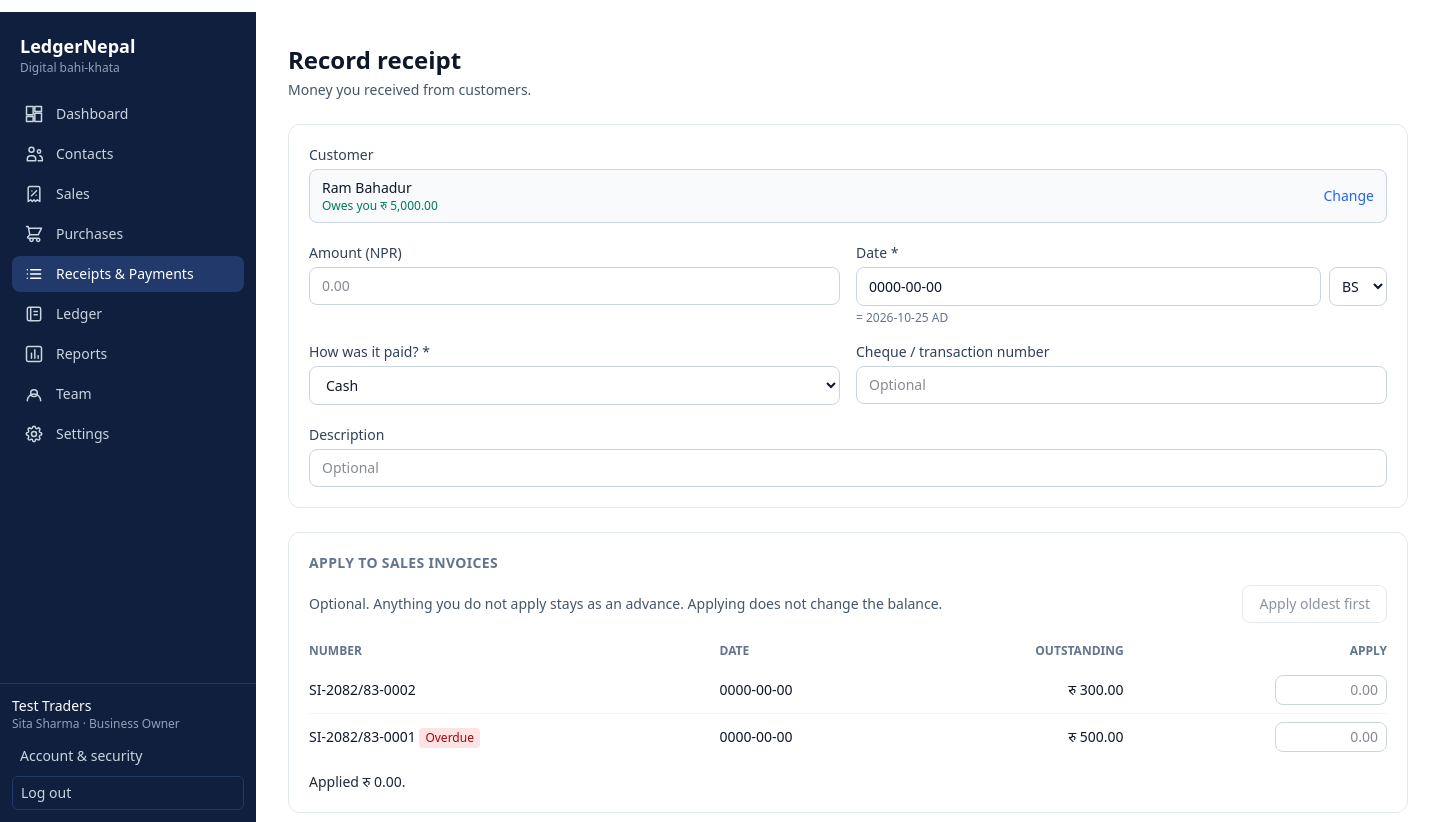
Scenario: recording a receipt › will not let you apply more than the amount
Step 1. Type "100" into the field labelled "Amount (NPR)" → (574, 286), box [309,267,840,305]
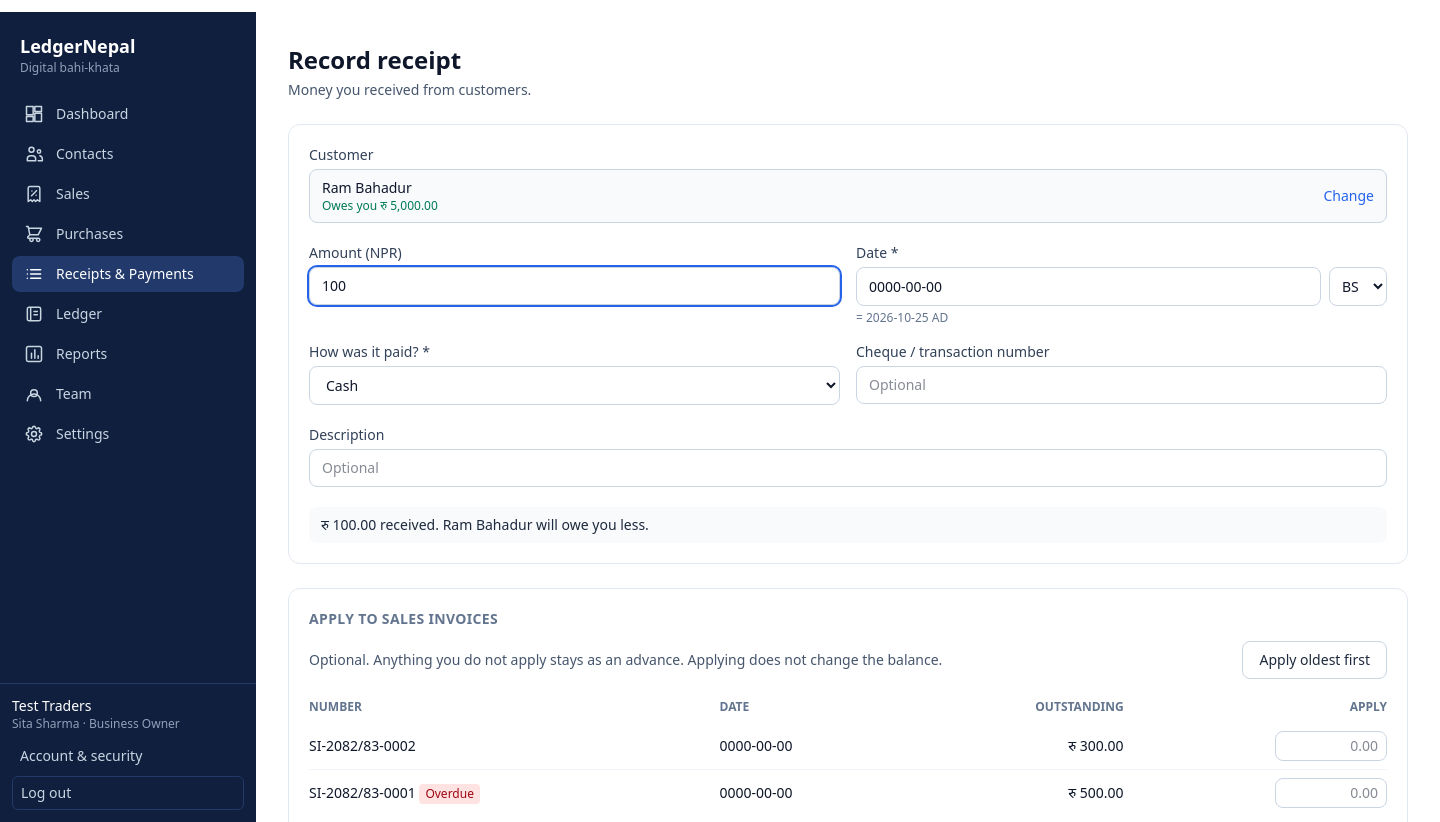
Step 2. Type "250" into the field named "Apply to SI-2082/83-0001" → (1331, 793), box [1275,778,1387,808]
(page scrolled)
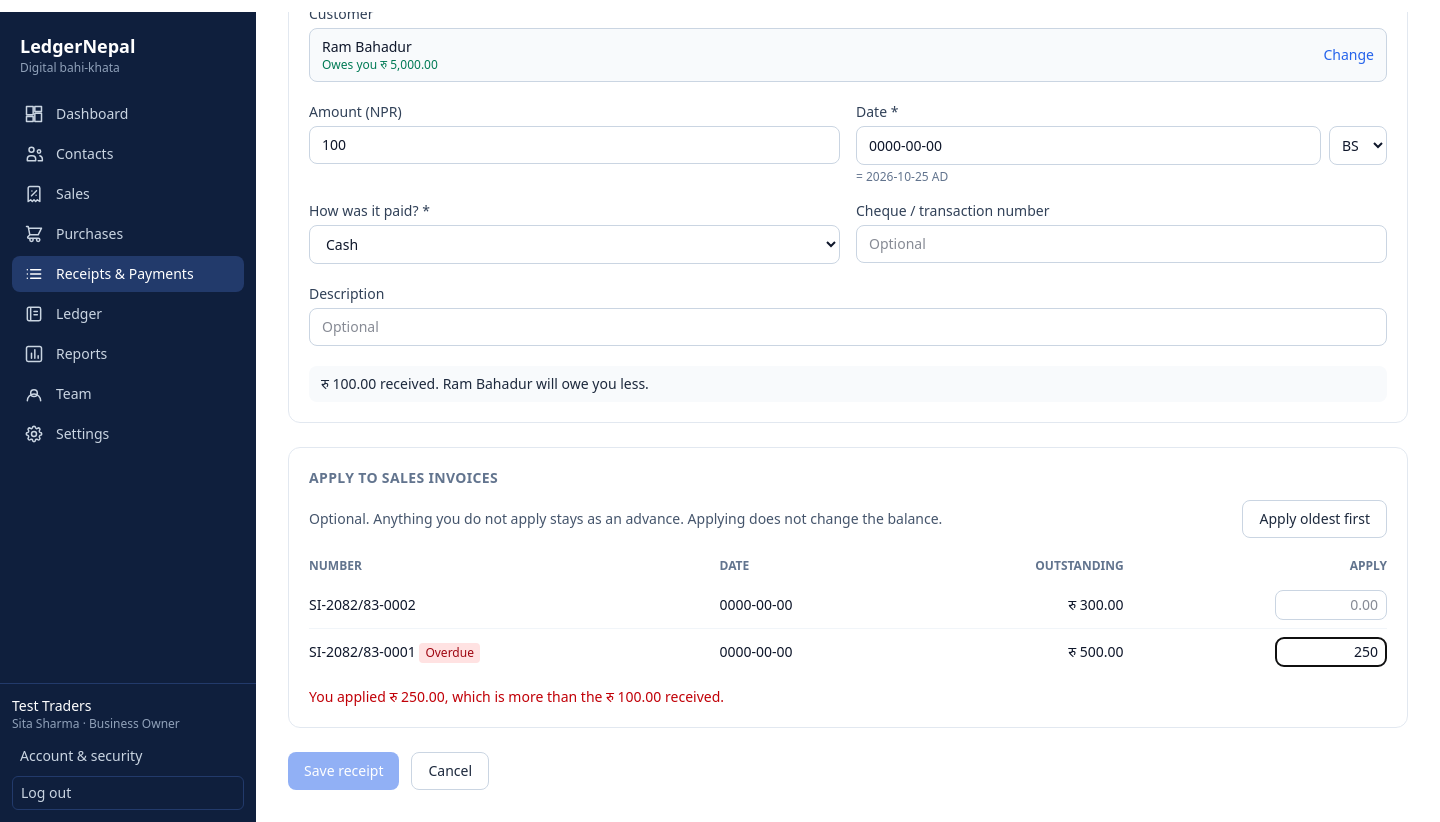
Check: the text "You applied रु 250.00, which is more than the रु 100.00 received." is shown, box [309,687,724,706]
Check: the button "Save receipt" is disabled, box [288,752,400,790]
